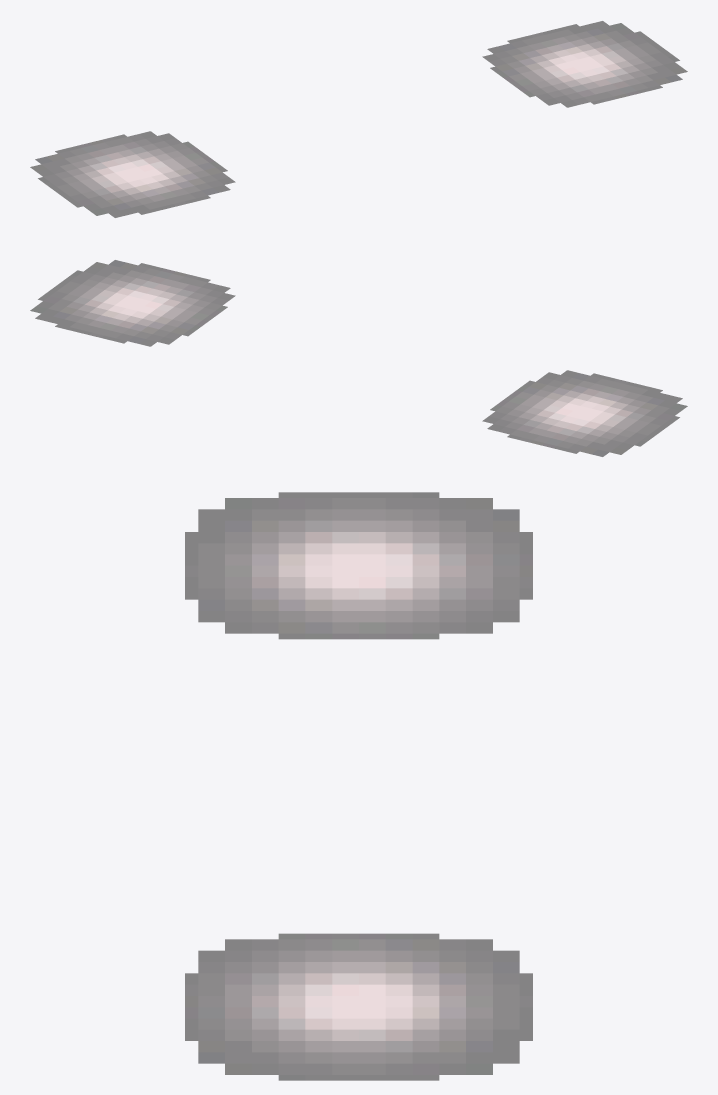
3 renders of one model, top to bottom at view 1: azimuth 30°, elevation 25°; view 2: azimuth 150°, elevation 25°; view 3: azimuth 270°, elevation 25°, orthographic. The views are drawn at different scales.
Parts seen in each view (by area): view 1: Hk_obj_062; view 2: Hk_obj_062; view 3: Hk_obj_062.
Boxes of the visible parts, <box> form: Hk_obj_062: <box>30,21,687,217</box>; Hk_obj_062: <box>30,260,687,456</box>; Hk_obj_062: <box>185,492,532,1080</box>.
Size of the model in its own units: 1 by 0 by 0.25.
1 material, 1 textured.
